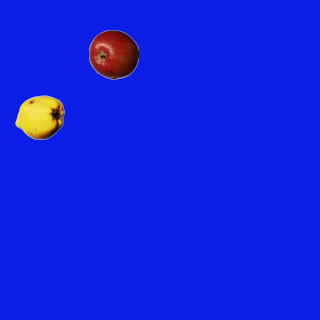Apple Braeburn: (88, 29, 138, 79)
Quince: (14, 92, 64, 142)
